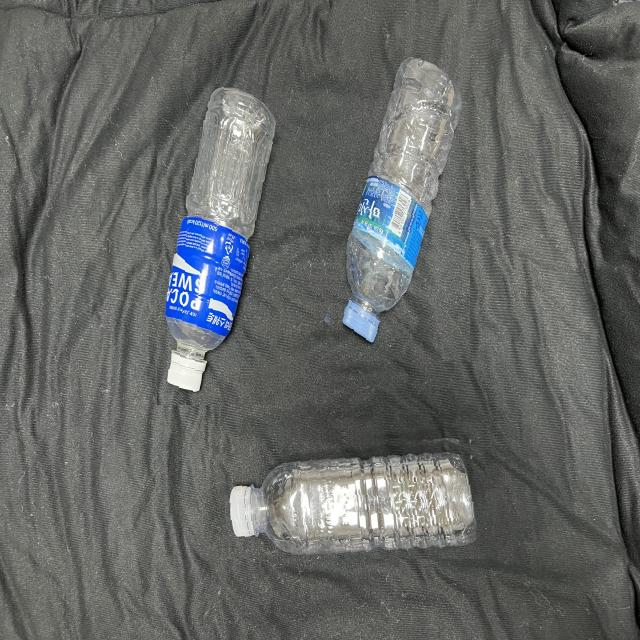plastic bottle: (326, 43, 470, 361), (157, 72, 292, 405), (219, 442, 485, 559)
